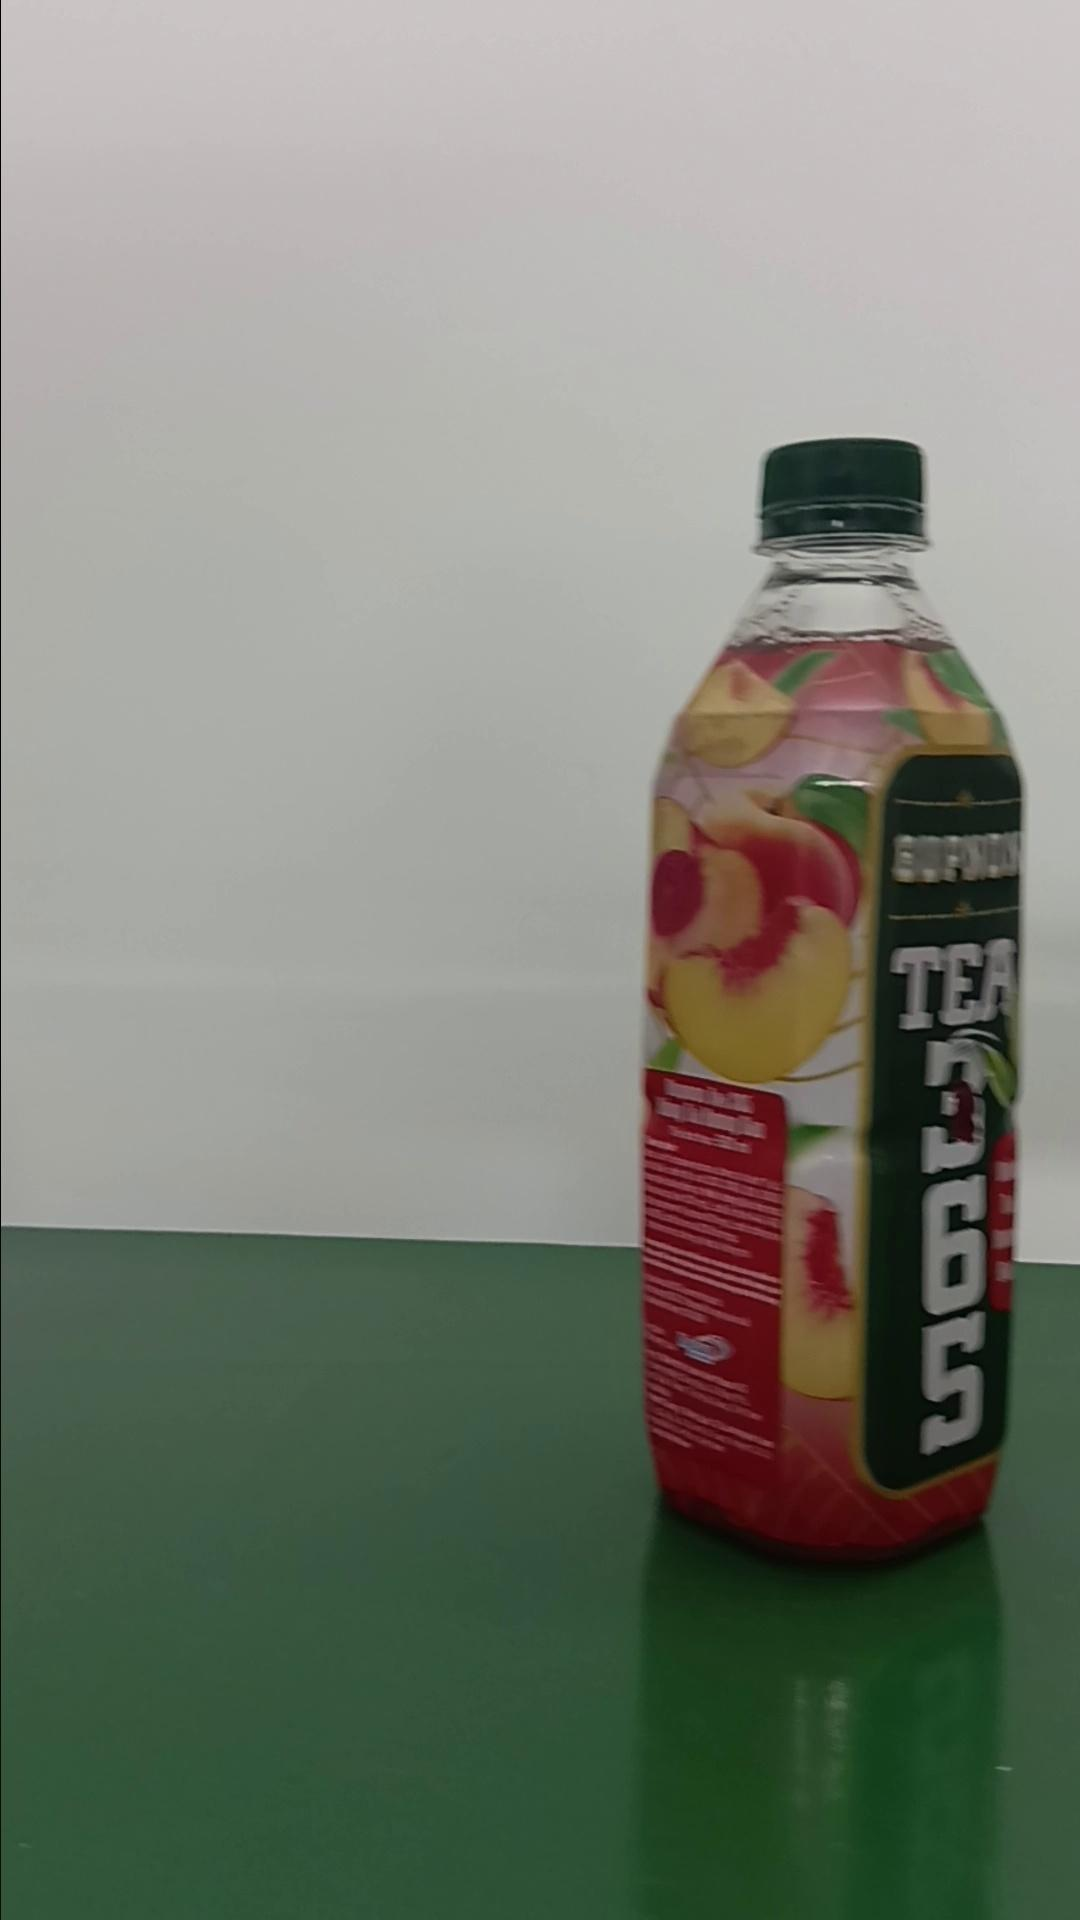loi rach va lap chai: (642, 423, 1029, 1568)
